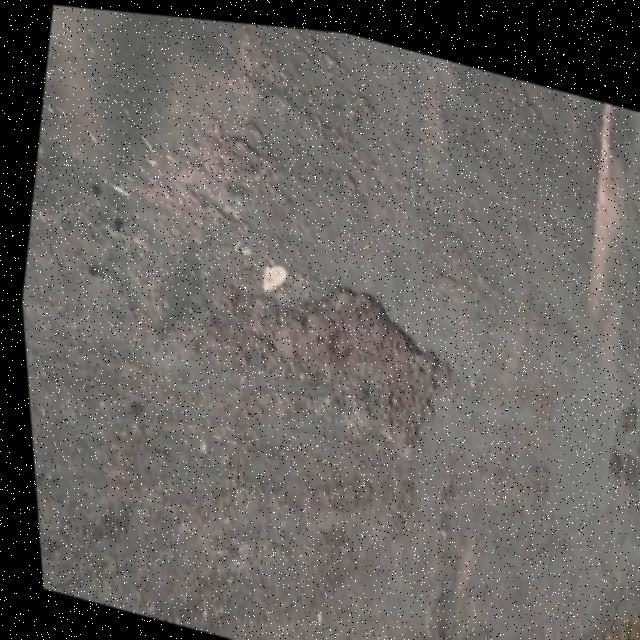pothole: (213, 250, 464, 454)
